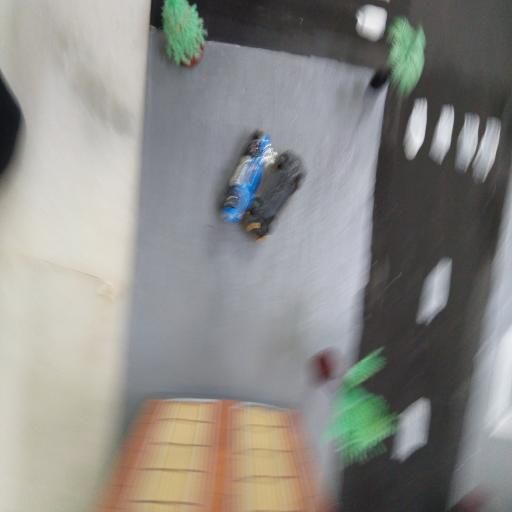car crash: (220, 125, 310, 254), (226, 122, 272, 234), (254, 157, 308, 242)
